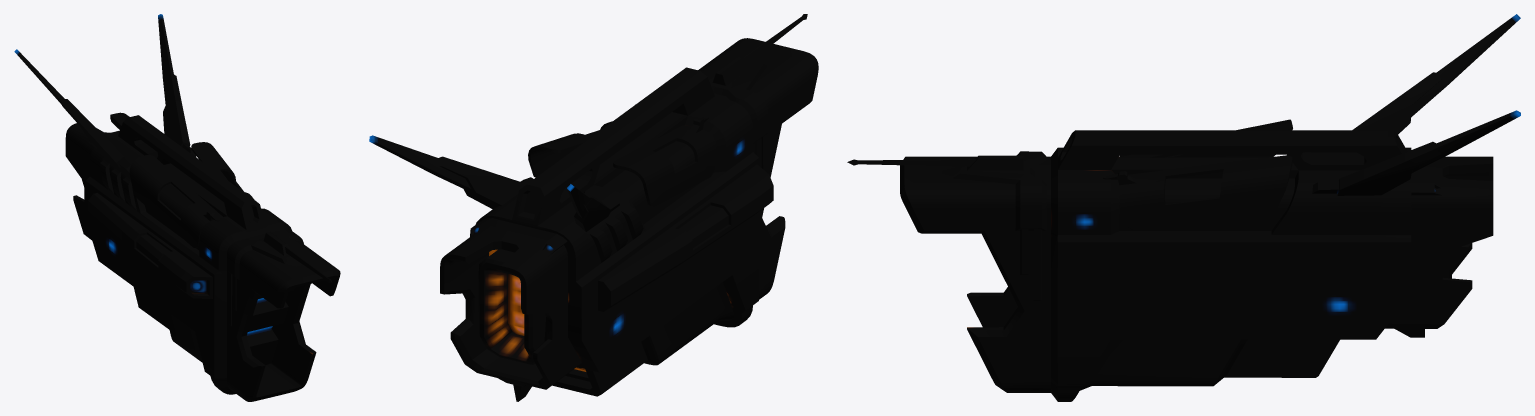
File: SM_L_Engine_3.fbx
3 renders of one model, left to right at view 1: azimuth 30°, elevation 25°; view 2: azimuth 150°, elevation 25°; view 3: azimuth 270°, elevation 25°, orthographic. The views are drawn at different scales.
Visible parts, largest first — view 1: SM_L_Engine_3; view 2: SM_L_Engine_3; view 3: SM_L_Engine_3.
Boxes of the visible parts, x1,y1,x2,y2 form: SM_L_Engine_3: (14,14,340,401); SM_L_Engine_3: (369,14,818,401); SM_L_Engine_3: (847,14,1520,401).
Bounding box in the file's own units: 49.98 × 75.96 × 143.
